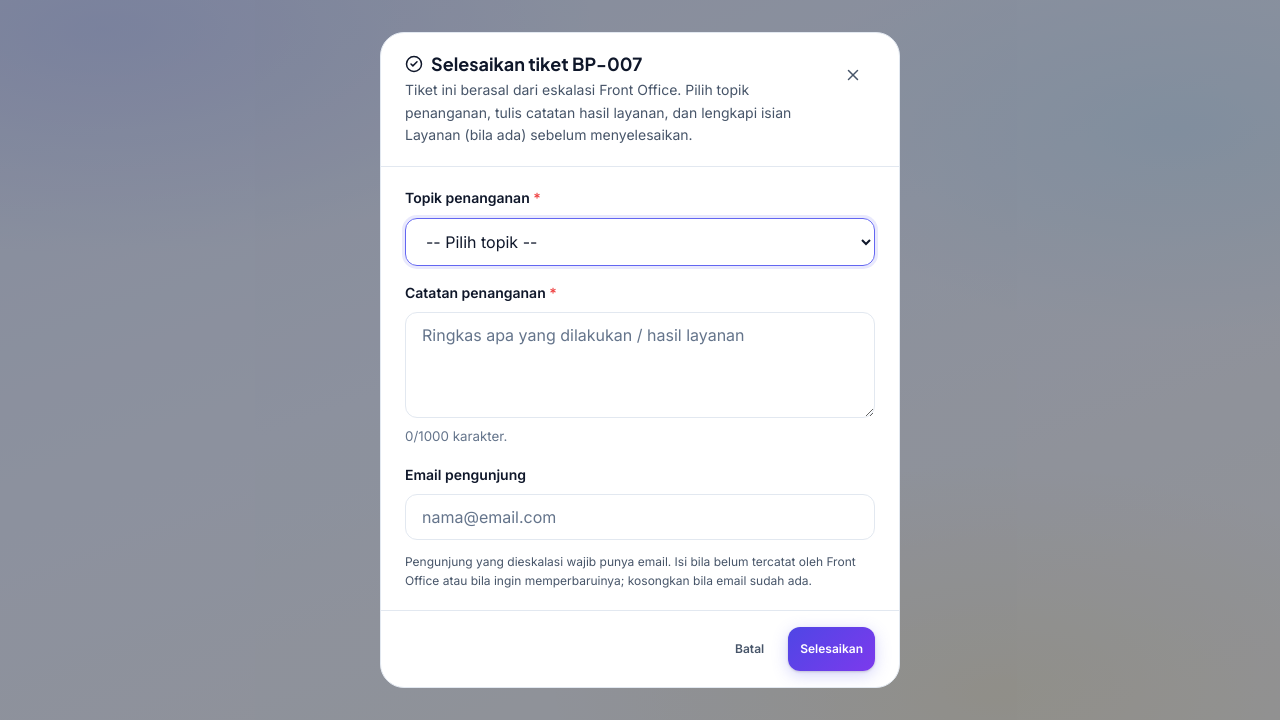
SelesaiEskalasiModal › email berformat salah / nilai pengganti ditolak di klien tanpa memanggil server
This screenshot has width=1280, height=720.
Select "Konsultasi" in the dropdown labelled "Topik penanganan". click: x=640, y=242
box: [405, 218, 875, 266]
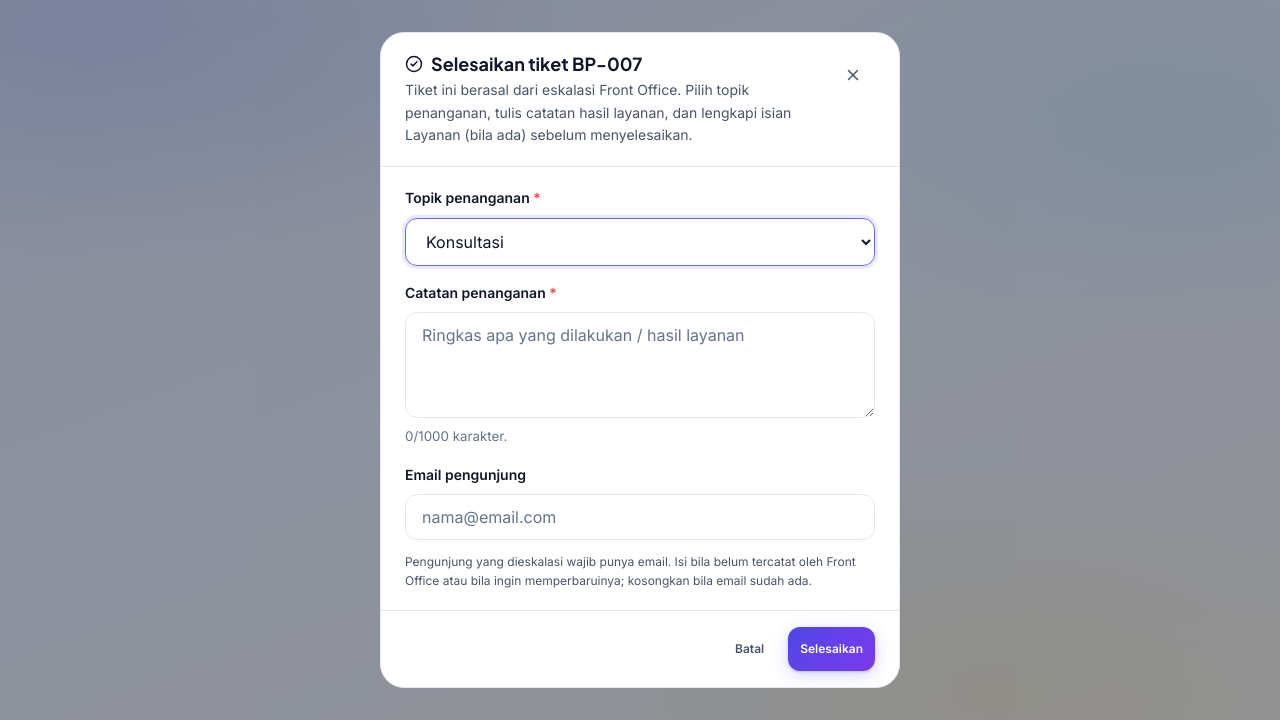
Type "Sudah dibantu" into the text box labelled "Catatan penanganan". click: x=640, y=365
box: [405, 312, 875, 418]
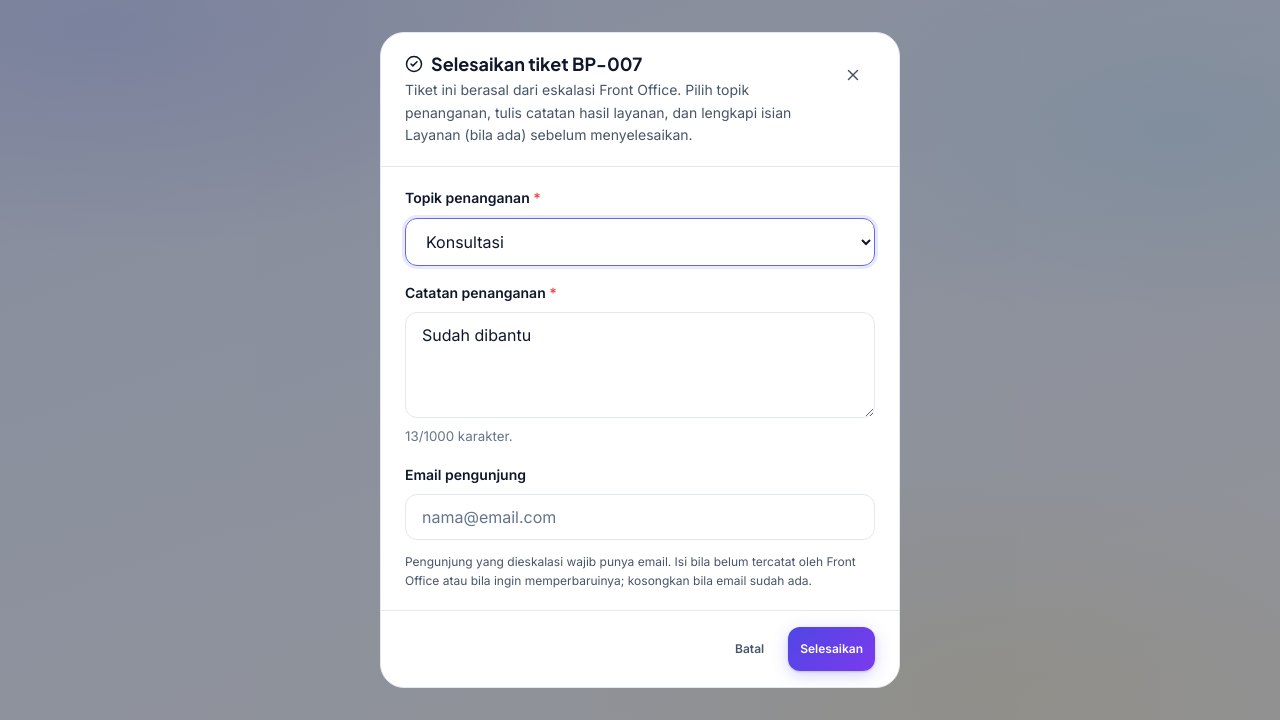
Type "Tidak berlaku" into the field labelled "Email pengunjung". click: x=640, y=517
box: [405, 494, 875, 540]
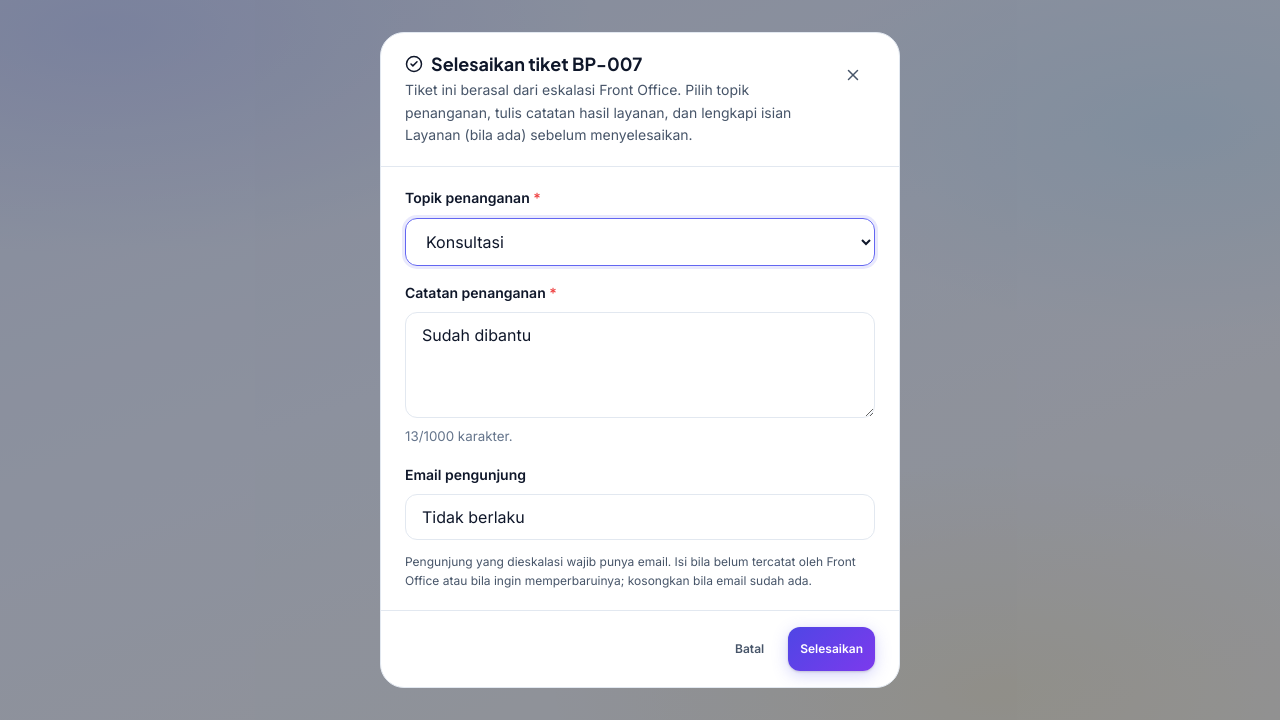
Click the button "Selesaikan". click: x=832, y=649
box: [788, 627, 875, 671]
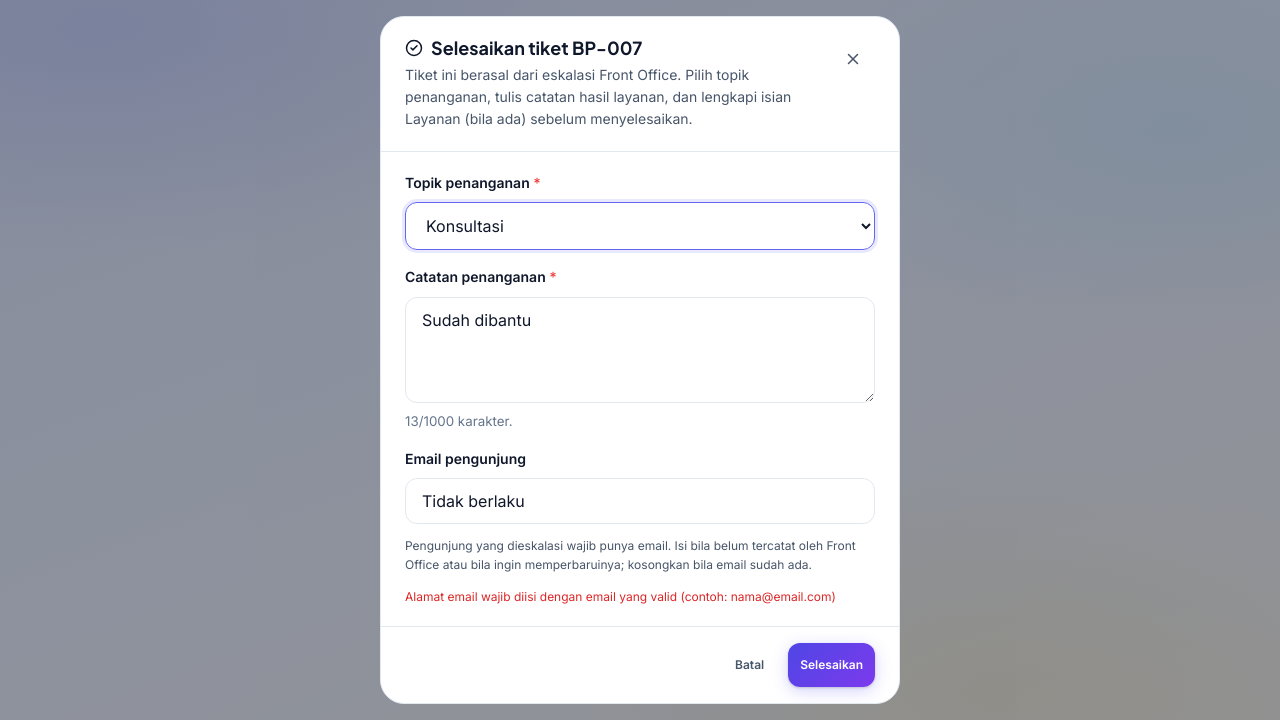
Now the text "Alamat email wajib diisi dengan email yang valid (contoh: nama@email.com)" is shown, box [405, 587, 875, 606]
